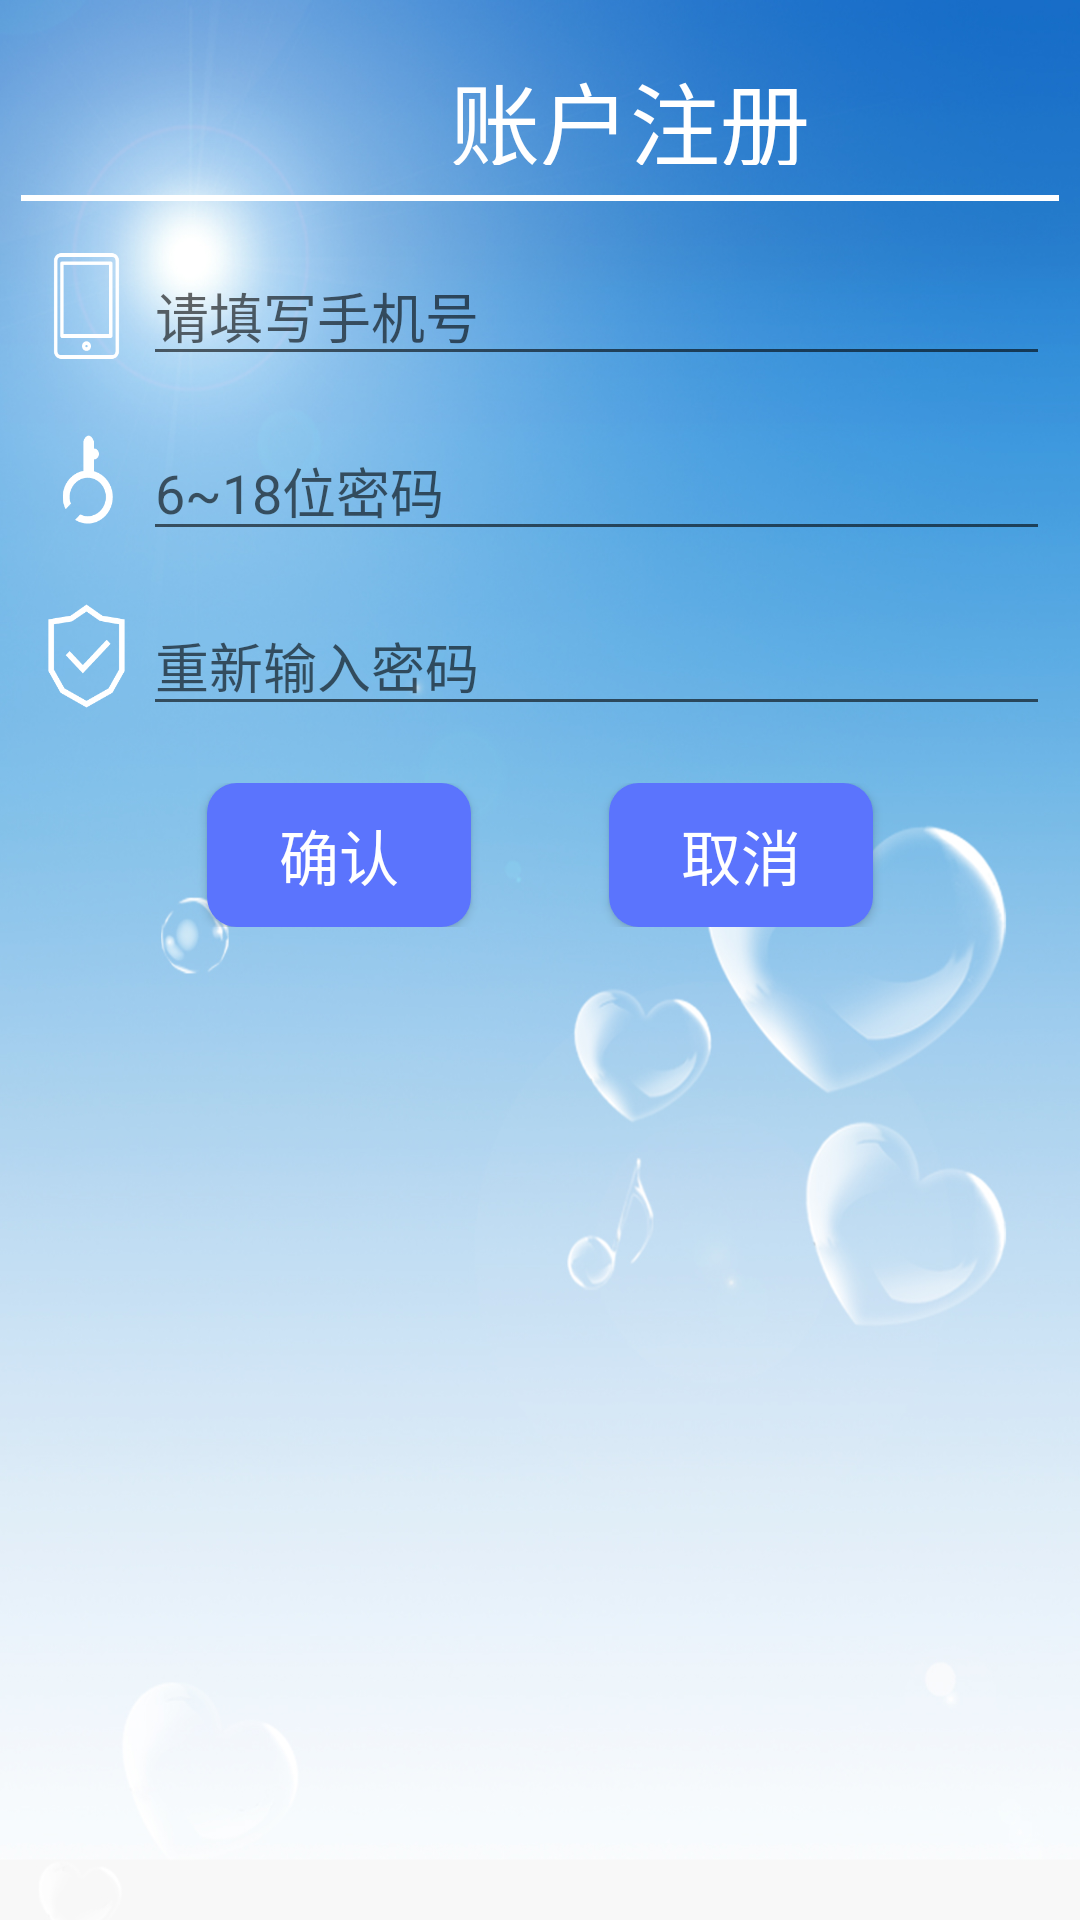

Point at icon controls on the screen. Image size 1080px×1920px, points as (x,y).
mima: (88,479)
mobilephone: (86,306)
yanzheng: (86,656)
